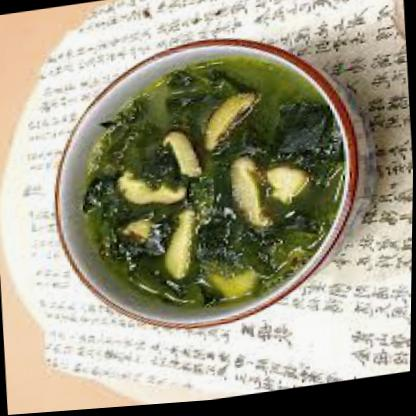seaweed: (68, 42, 362, 328)
